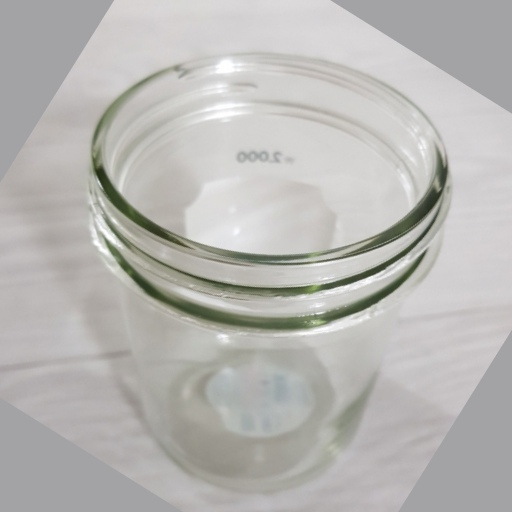Glass_5: (85, 57, 452, 490)
